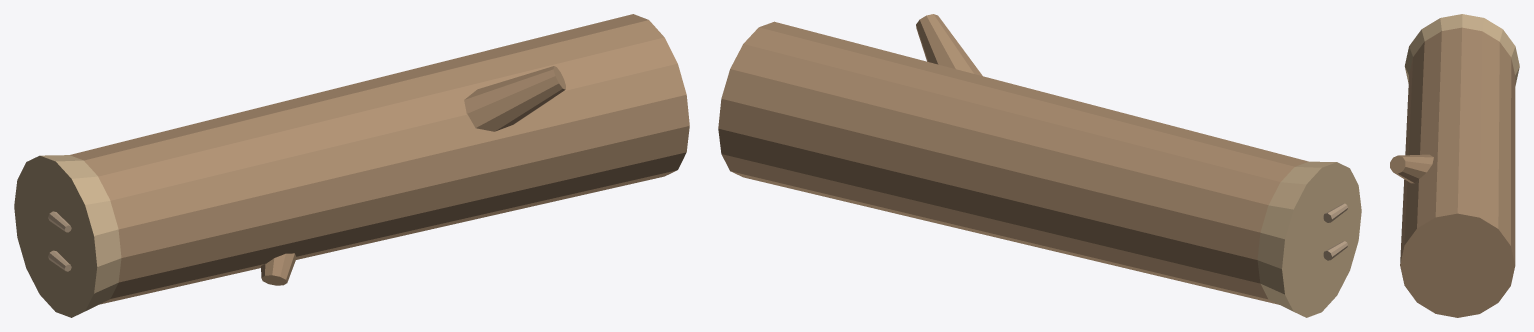
Rendered from fallen_log.glb.
The picture shows the model from 3 angles, left to right: view 1: azimuth 30°, elevation 25°; view 2: azimuth 150°, elevation 25°; view 3: azimuth 270°, elevation 25°; orthographic projection. The views are drawn at different scales.
Visible parts, largest first — view 1: fallen_log_000, fallen_log_001, fallen_log_004, fallen_log_005; view 2: fallen_log_000, fallen_log_001, fallen_log_004; view 3: fallen_log_000, fallen_log_001, fallen_log_004.
Boxes of the visible parts, bbox=[...] form: fallen_log_000: bbox=[70, 14, 689, 304]; fallen_log_001: bbox=[14, 155, 121, 317]; fallen_log_004: bbox=[464, 66, 565, 131]; fallen_log_005: bbox=[261, 253, 296, 285]; fallen_log_000: bbox=[718, 21, 1308, 304]; fallen_log_001: bbox=[1257, 161, 1361, 317]; fallen_log_004: bbox=[916, 14, 982, 75]; fallen_log_000: bbox=[1400, 27, 1515, 317]; fallen_log_001: bbox=[1404, 14, 1519, 85]; fallen_log_004: bbox=[1390, 154, 1433, 183].
Bounding box in the file's own units: 2.08 × 0.5534 × 0.5633.
